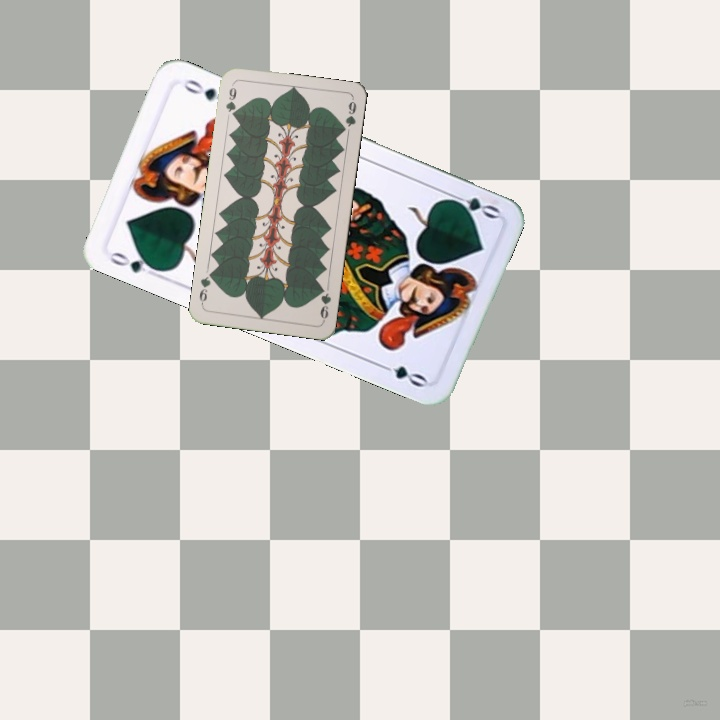G9: (316, 282, 334, 324), (222, 80, 239, 120)
GO: (442, 188, 502, 222), (105, 247, 164, 280)
